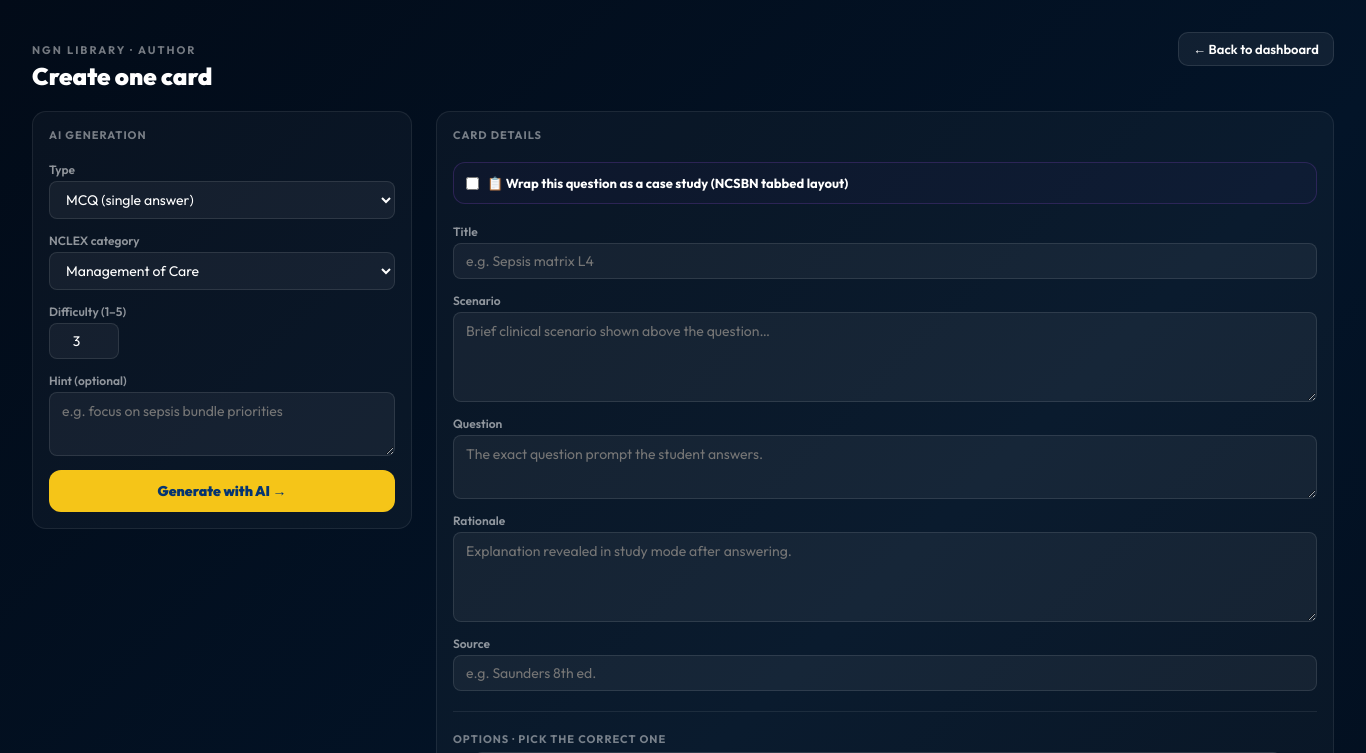
NGNCreateScreen › shows the duplicate warning when isDuplicate=true
The width and height of the screenshot is (1366, 753).
Click the button "Generate with AI →": click(222, 491) [49,470,395,512]
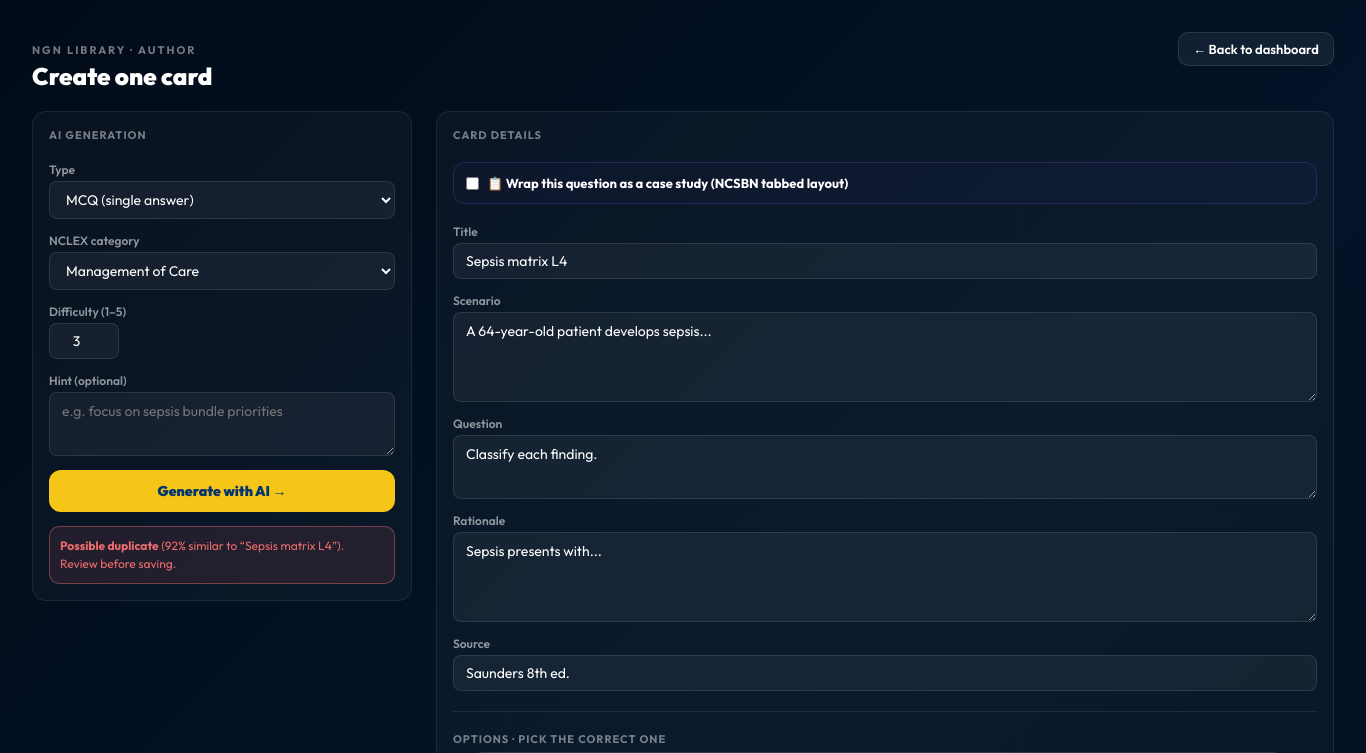
Expected: the element with test id "duplicate-warning" shows "92% similar", [49,526,395,584]
